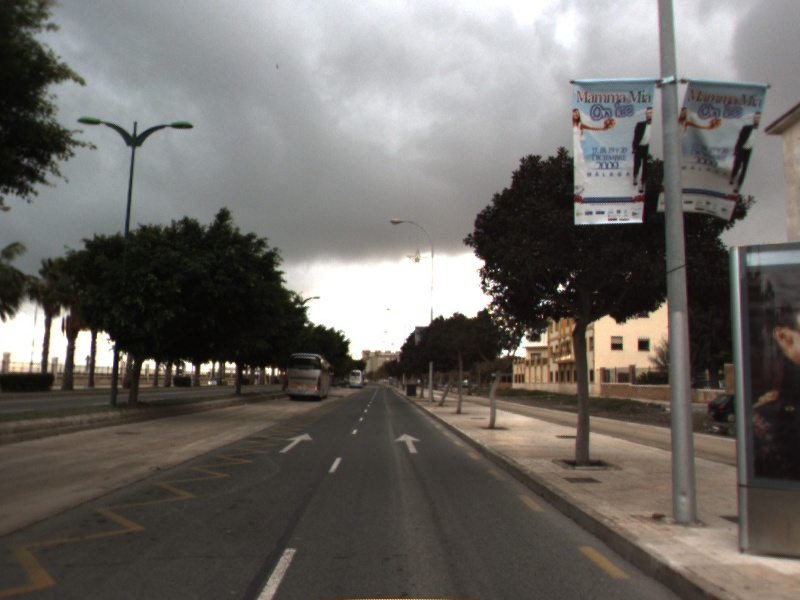STRAIGHT: (277, 431, 316, 455), (393, 431, 424, 455)
